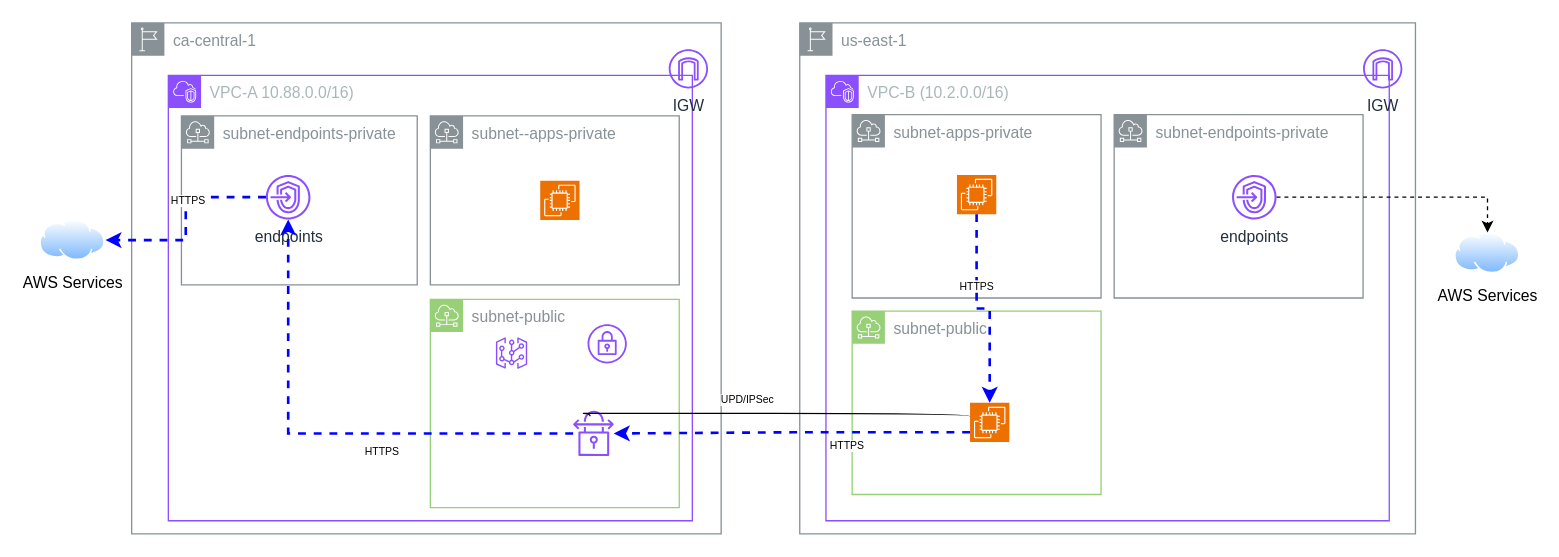
Image size: 1559x557. Some labels were removed from this diagram. The centre of each missing label's shape, as x and y in pixels:
Customer Gateway: the point at 511,352
private-a: the point at 559,199
private-b: the point at 976,194
VPN Connection: the point at 592,432
VPN Gateway: the point at 606,343
vpn-b (Libreswan): the point at 989,422
